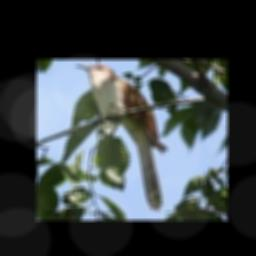Cuckoo: (75, 64, 167, 210)
